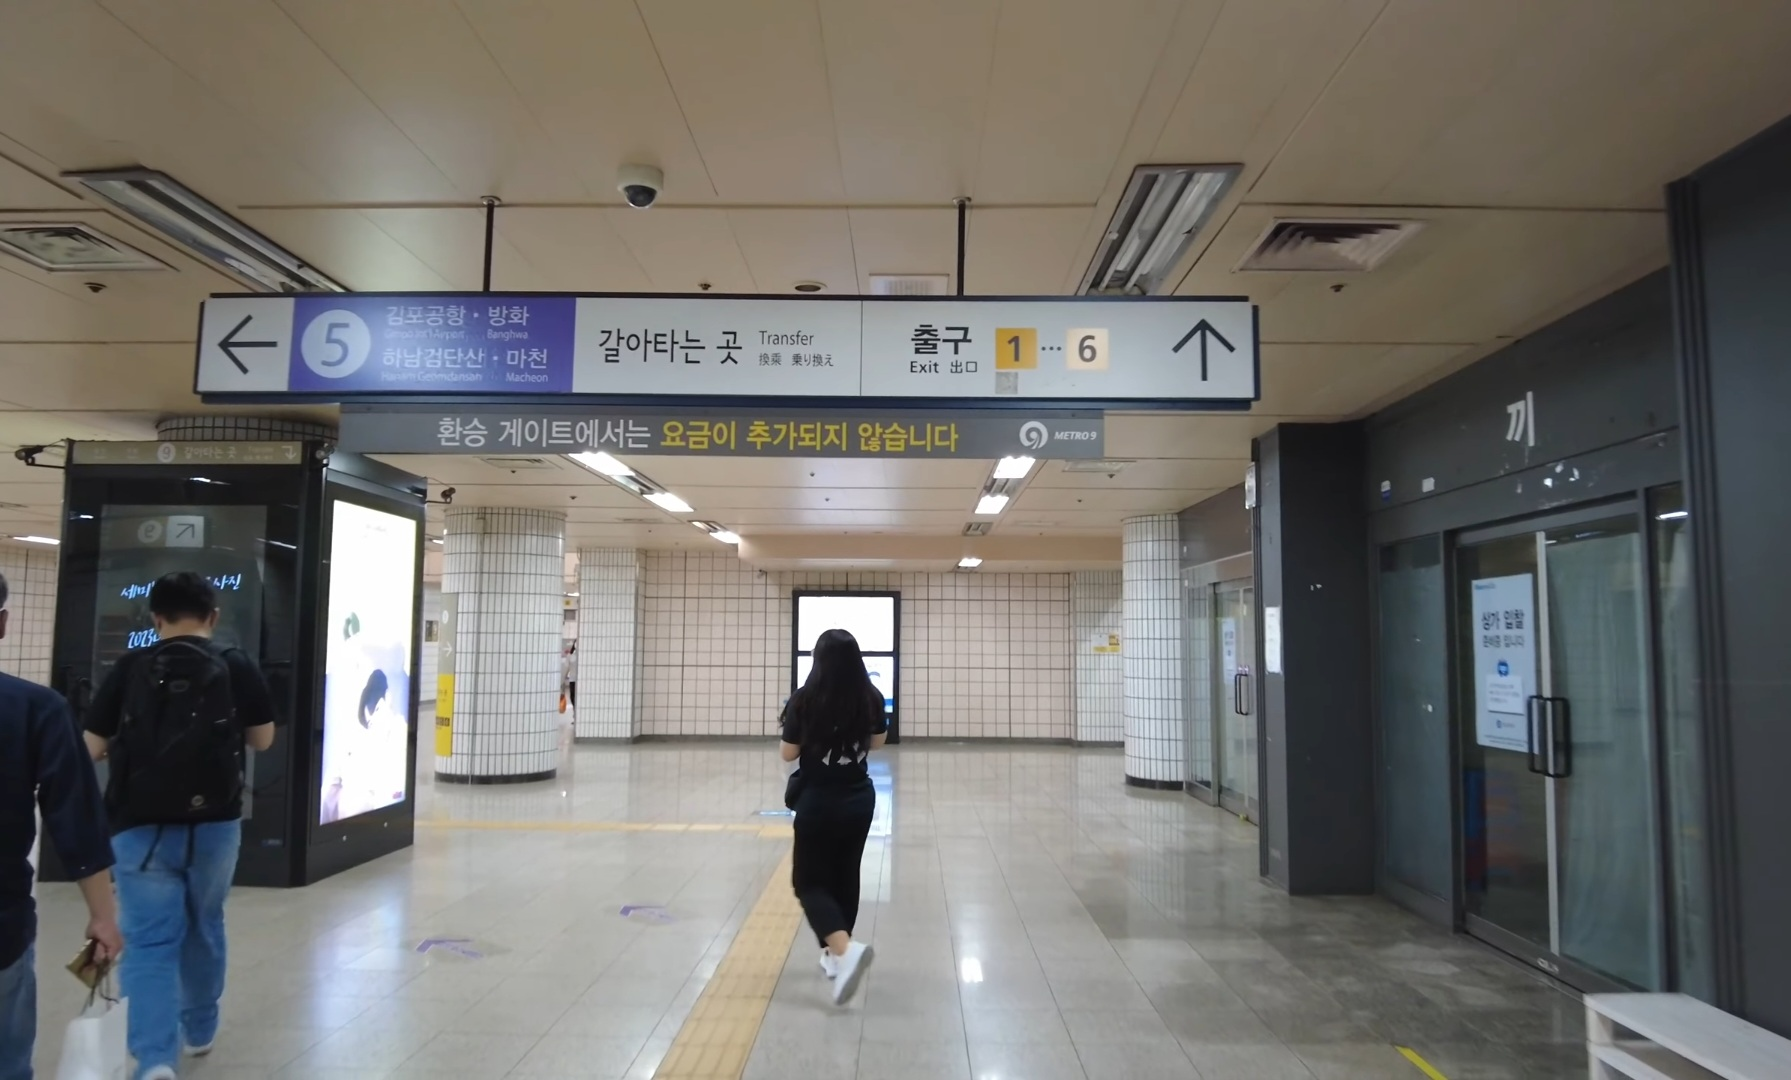signBoard: (178, 278, 1268, 416)
